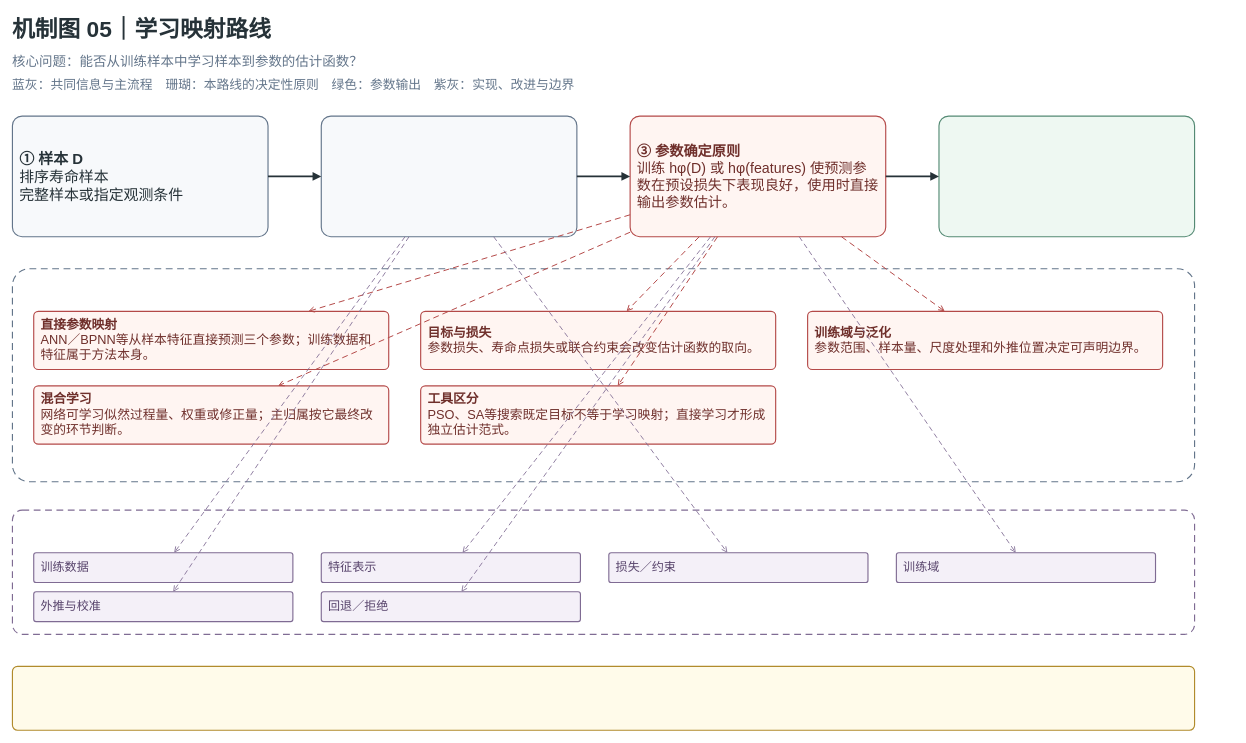
Some shapes in this 1246 by 743 pixel diagram are drawn without their labels. The shapes that lost their labels are listed below. From the top down, each one's box as (x1, y1, x2, y2) in pixels, then its label:
(320, 115, 577, 237): ② 信息利用 模拟样本或历史样本、可观测特征、真参数标签、训练域和损失函数。
(938, 115, 1195, 237): ④ 三参数估计 β̂、η̂、γ̂ 并伴随训练域、外推、校准、回退与不确定性边界
(12, 268, 1195, 482): 主要构造与方法分支
(12, 509, 1195, 635): 实现与改进标签（横向，不另立一级类别）
(12, 665, 1195, 730): 解释边界 训练集上的误差不能替代新样本泛化证据；学习路线的先验范围、输入表示和损失共同定义方法边界。
